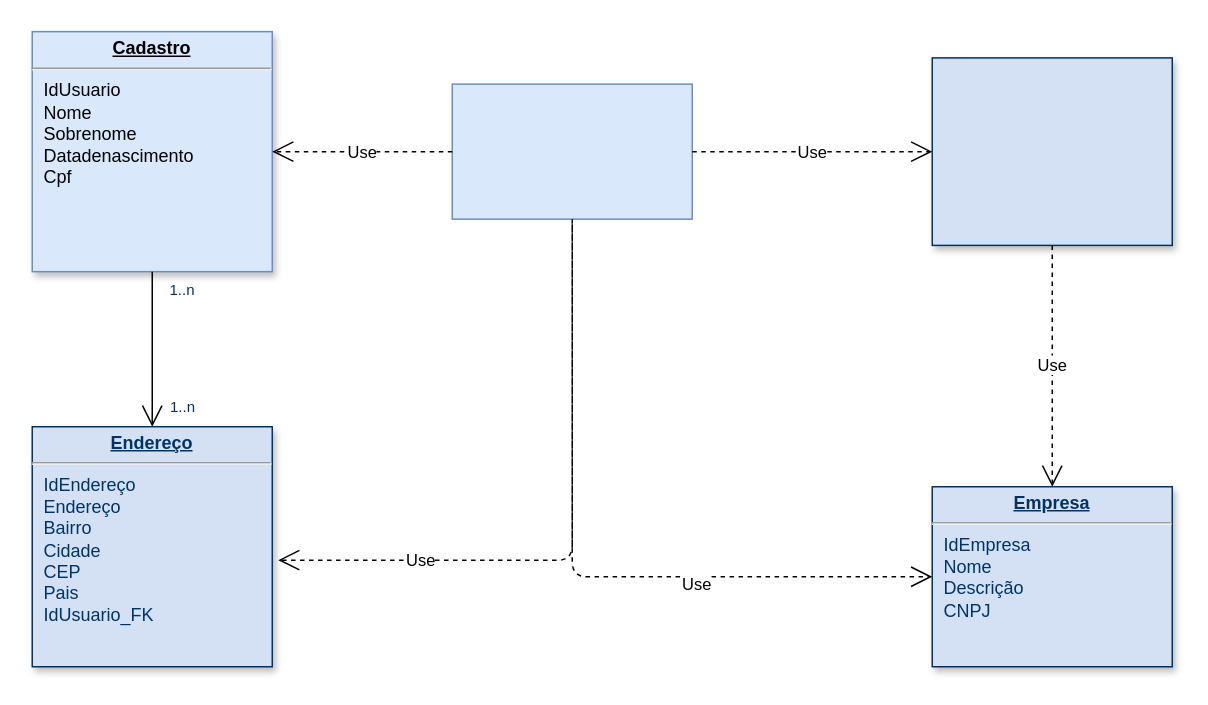
This 1208x705 diagram has some shape labels left out. Each missing label, with the centre of its shape:
"produto IdProduto Nome Valor Tamanho Quantidade IdEmpresa_FK" goes at pixel 1053 153.
"Venda IdUsuario_FK IdEndereço_FK IdProduto_FK IdEmpresa_FK" goes at pixel 571 151.
